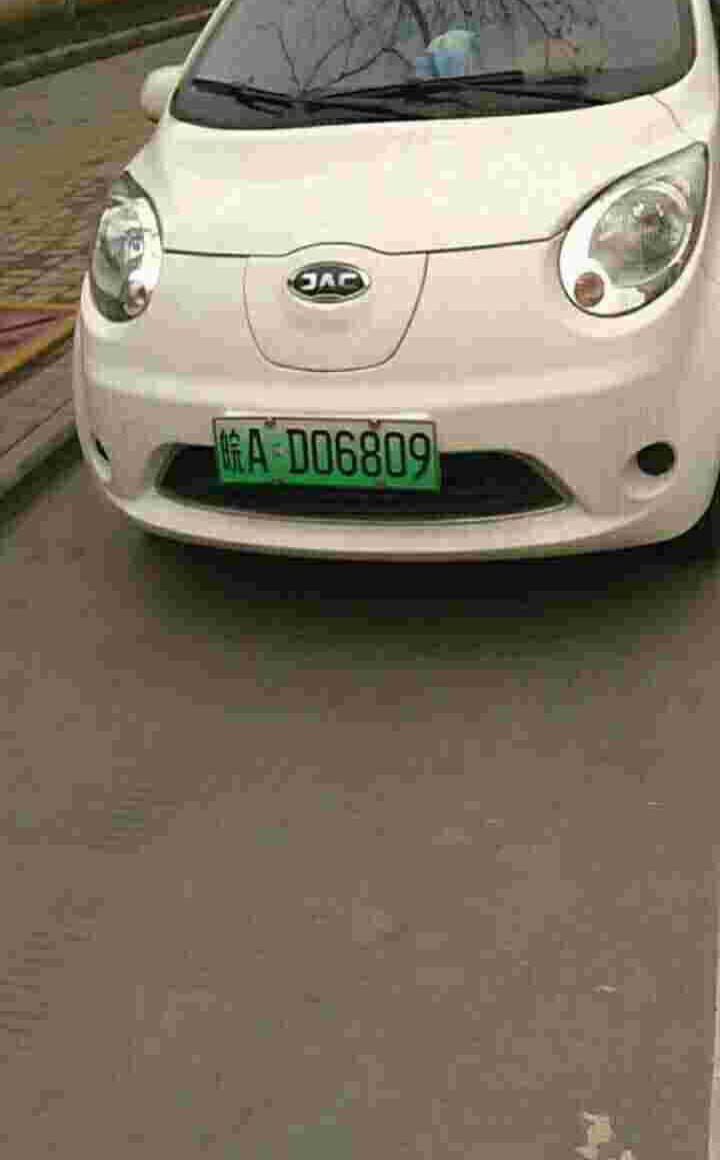car_id: (213, 415, 438, 488)
